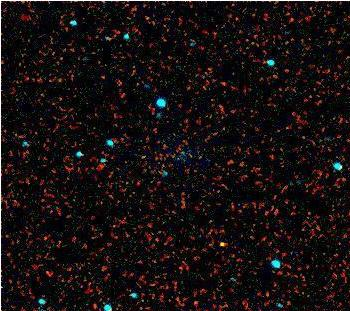star: (208, 229, 238, 259)
